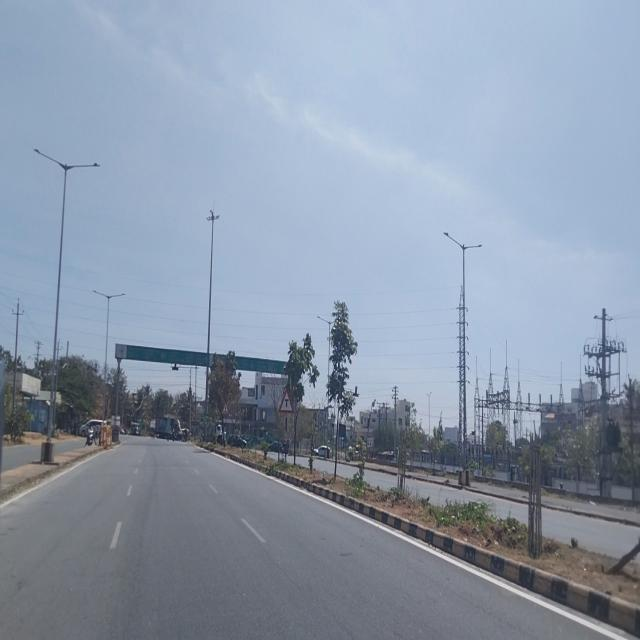bien_cam: (278, 388, 294, 413)
